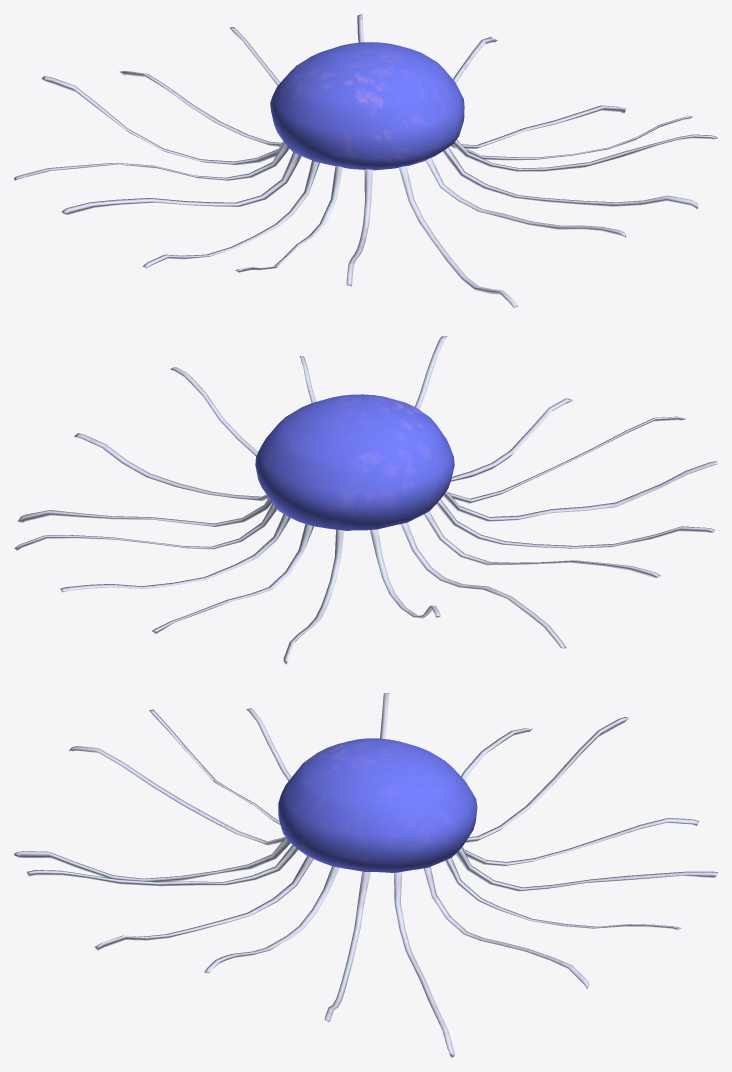
Rendered from dinnerPlateJellyV2.fbx.
3 views of the same model, one above another, from view 1: azimuth 30°, elevation 25°; view 2: azimuth 150°, elevation 25°; view 3: azimuth 270°, elevation 25° (orthographic). The views are drawn at different scales.
Visible parts, largest first — view 1: dinnerPlateJelly; view 2: dinnerPlateJelly; view 3: dinnerPlateJelly.
Boxes of the visible parts, x1,y1,x2,y2 form: dinnerPlateJelly: (14, 14, 717, 307); dinnerPlateJelly: (14, 336, 717, 664); dinnerPlateJelly: (14, 693, 717, 1057).
Bounding box in the file's own units: 5.01 × 1.25 × 5.
